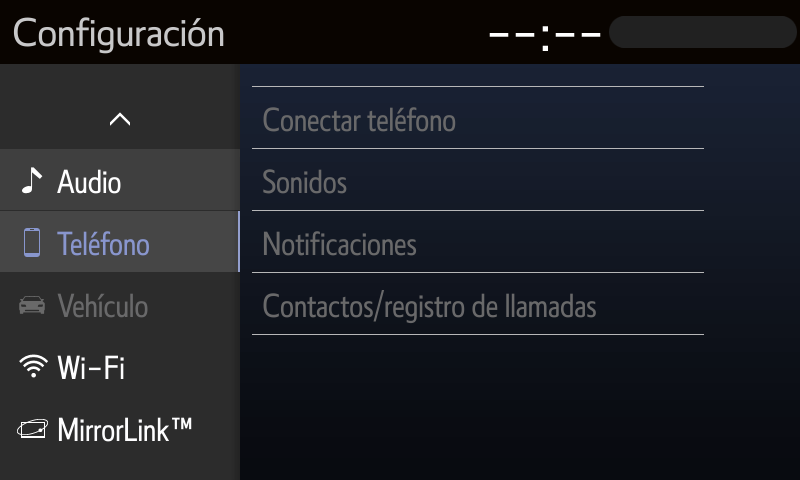touchPart: (17, 409, 206, 449), (16, 345, 138, 391), (18, 158, 129, 201), (108, 102, 134, 131)
untouchPart: (250, 266, 712, 338), (250, 146, 709, 217), (251, 208, 710, 278), (251, 83, 707, 151), (481, 9, 796, 55), (12, 7, 227, 54), (13, 282, 157, 325), (18, 225, 152, 263)
